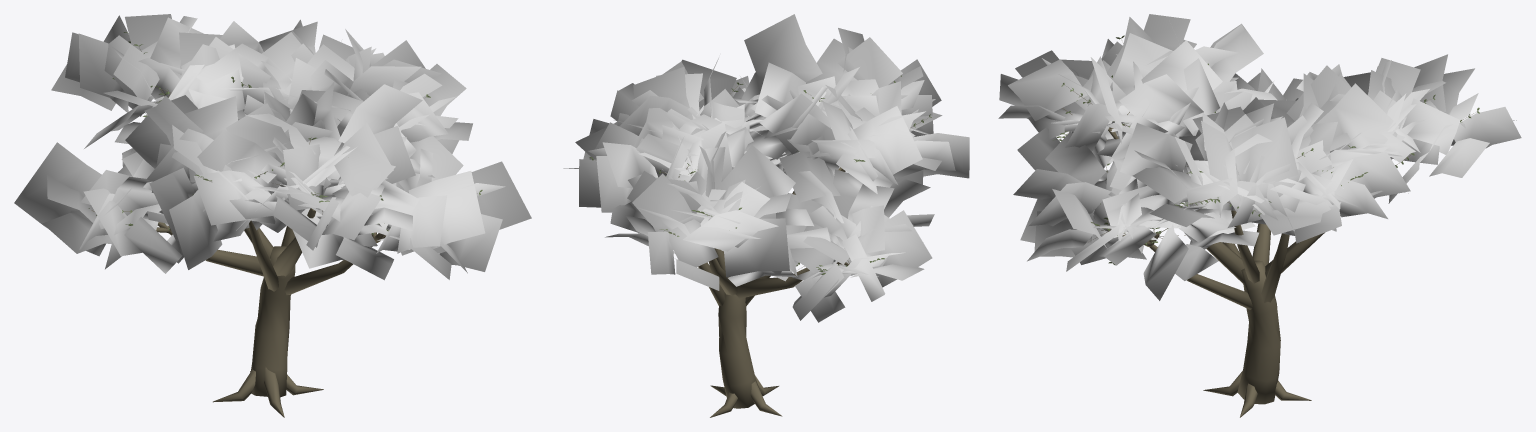
The model's file is V7_Oleastre_0_Niveau0.fbx.
3 views of the same model, side by side, from view 1: azimuth 30°, elevation 25°; view 2: azimuth 150°, elevation 25°; view 3: azimuth 270°, elevation 25° (orthographic). The views are drawn at different scales.
Parts seen in each view (by area): view 1: V7_Oleastre_0; view 2: V7_Oleastre_0; view 3: V7_Oleastre_0.
Part boxes in pixels (x1=…): V7_Oleastre_0: x1=14, y1=14, x2=531, y2=417; V7_Oleastre_0: x1=563, y1=14, x2=969, y2=417; V7_Oleastre_0: x1=998, y1=14, x2=1521, y2=417.
Bounding box in the file's own units: 466 × 438 × 584.
